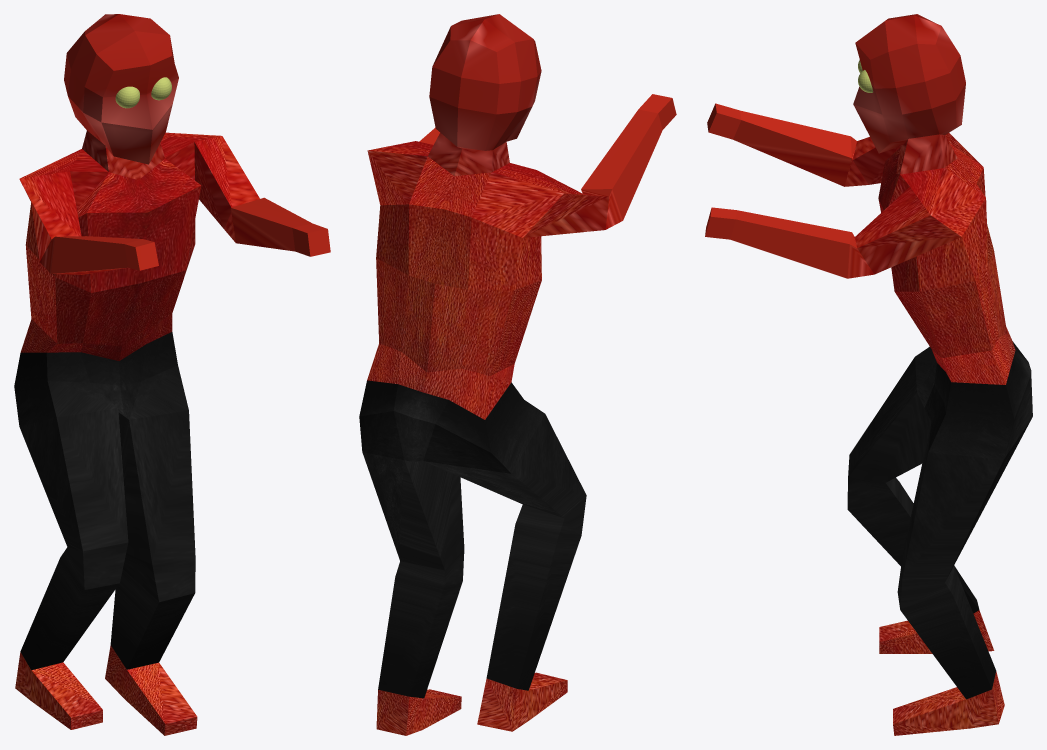
Rendered from laySheary_000031.obj.
The picture shows the model from 3 angles, left to right: view 1: azimuth 30°, elevation 25°; view 2: azimuth 150°, elevation 25°; view 3: azimuth 270°, elevation 25°; orthographic projection. The views are drawn at different scales.
Parts seen in each view (by area): view 1: Cube; view 2: Cube; view 3: Cube.
Boxes of the visible parts, x1,y1,x2,y2 form: Cube: [14, 14, 330, 735]; Cube: [359, 14, 676, 735]; Cube: [705, 14, 1032, 735].
Size of the model in its own units: 5.06 by 15.9 by 6.85.
Materials: 3 (2 with a texture image).
